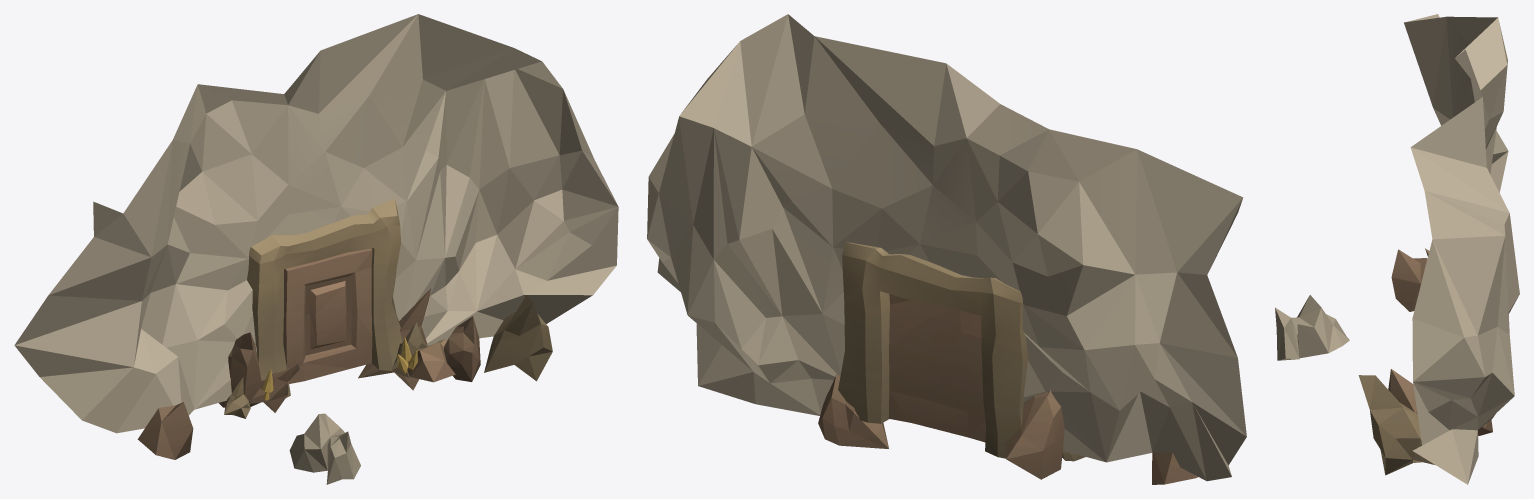
The model's file is caveDoorBase.fbx.
3 views of the same model, side by side, from view 1: azimuth 30°, elevation 25°; view 2: azimuth 150°, elevation 25°; view 3: azimuth 270°, elevation 25° (orthographic). The views are drawn at different scales.
Parts seen in each view (by area): view 1: caveDoorBase, singleDoor; view 2: caveDoorBase, singleDoor; view 3: caveDoorBase.
Boxes of the visible parts, bbox=[...] form: caveDoorBase: bbox=[14, 14, 618, 484]; singleDoor: bbox=[283, 248, 372, 383]; caveDoorBase: bbox=[647, 14, 1246, 484]; singleDoor: bbox=[888, 294, 985, 442]; caveDoorBase: bbox=[1275, 14, 1519, 484].
Bounding box in the file's own units: 16.39 × 9.98 × 6.28.
2 materials, 1 textured.
